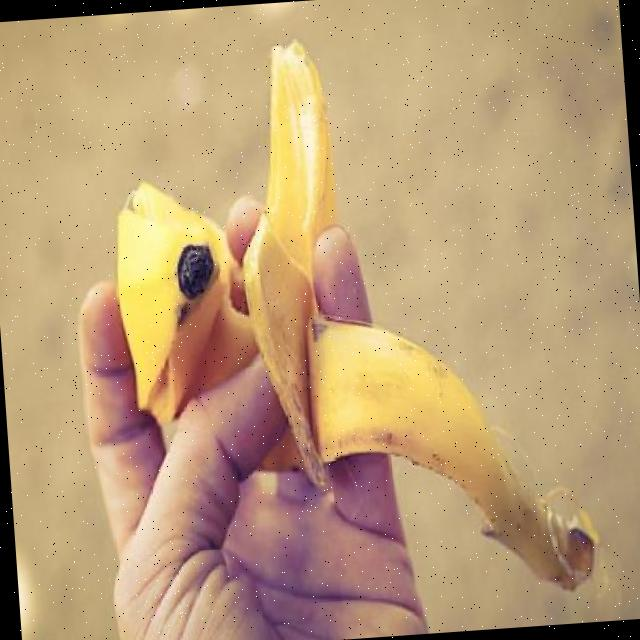banana-peel: (98, 19, 602, 620), (225, 35, 356, 496)
